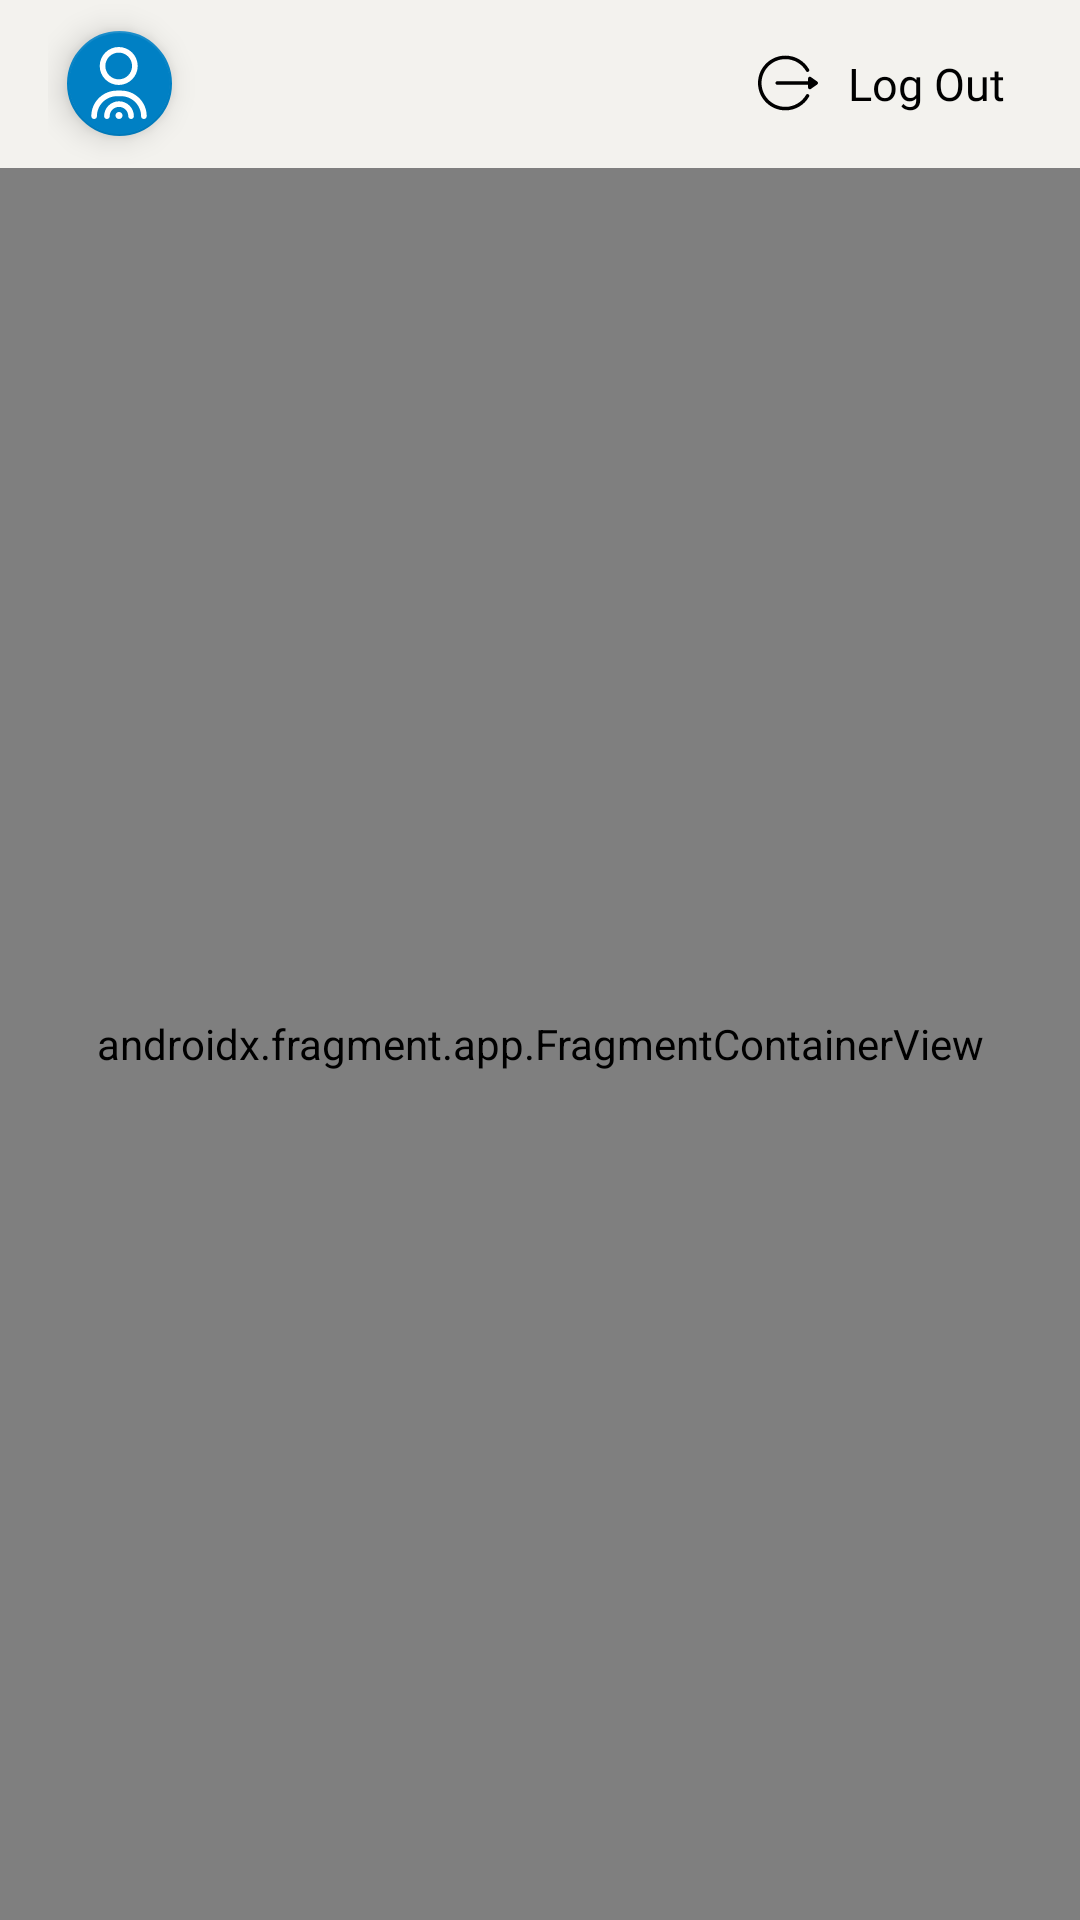

Locate icon controls on the screen. Image size 1080px x 1920px, boxes as (x1, y1, x2, y2).
Icon of user for user home in menu button area: (64, 31, 172, 136)
